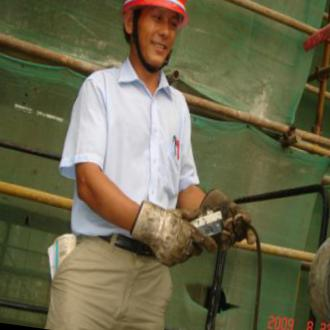helmet: (119, 1, 190, 19)
